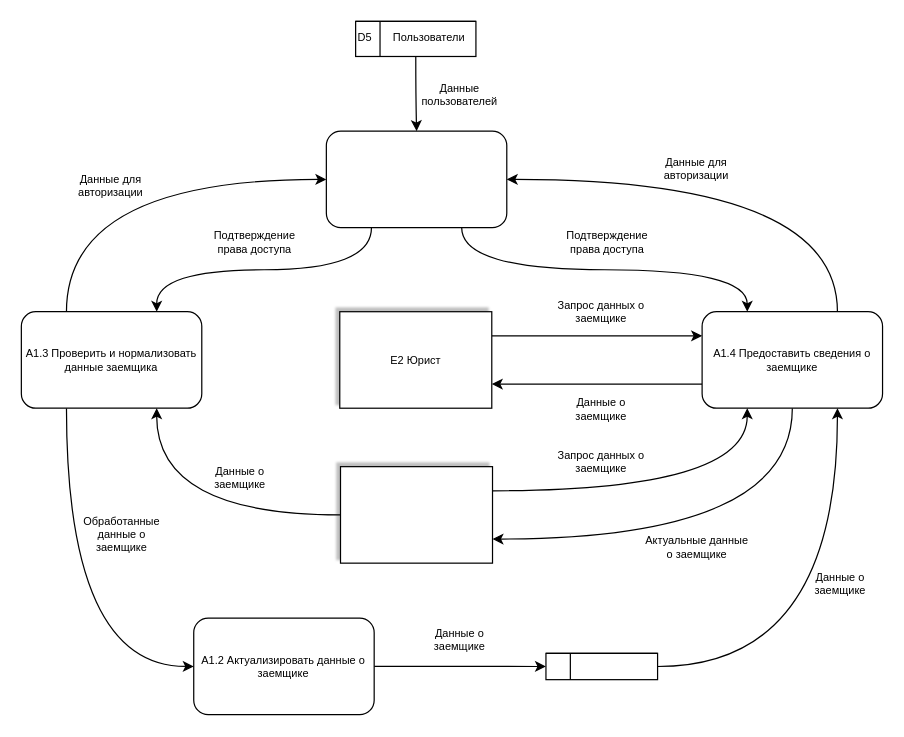
This 904x737 diagram has some shape labels left out. Each missing label, with the centre of its shape:
D1 Заемщики: the point at 601,666
E3 Экономист: the point at 414,512
А1.1 Проверить права доступа пользователя: the point at 416,179
